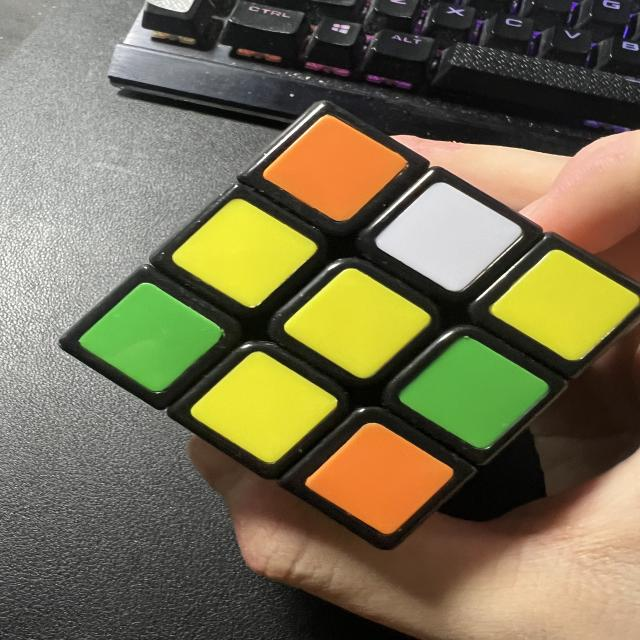center: (280, 251, 434, 395)
green: (392, 321, 549, 468), (71, 264, 229, 410)
orange: (302, 407, 454, 548), (259, 100, 409, 238)
white: (371, 165, 529, 309)
yellow: (278, 252, 435, 397), (184, 336, 341, 481), (167, 184, 320, 324), (487, 235, 640, 375)
